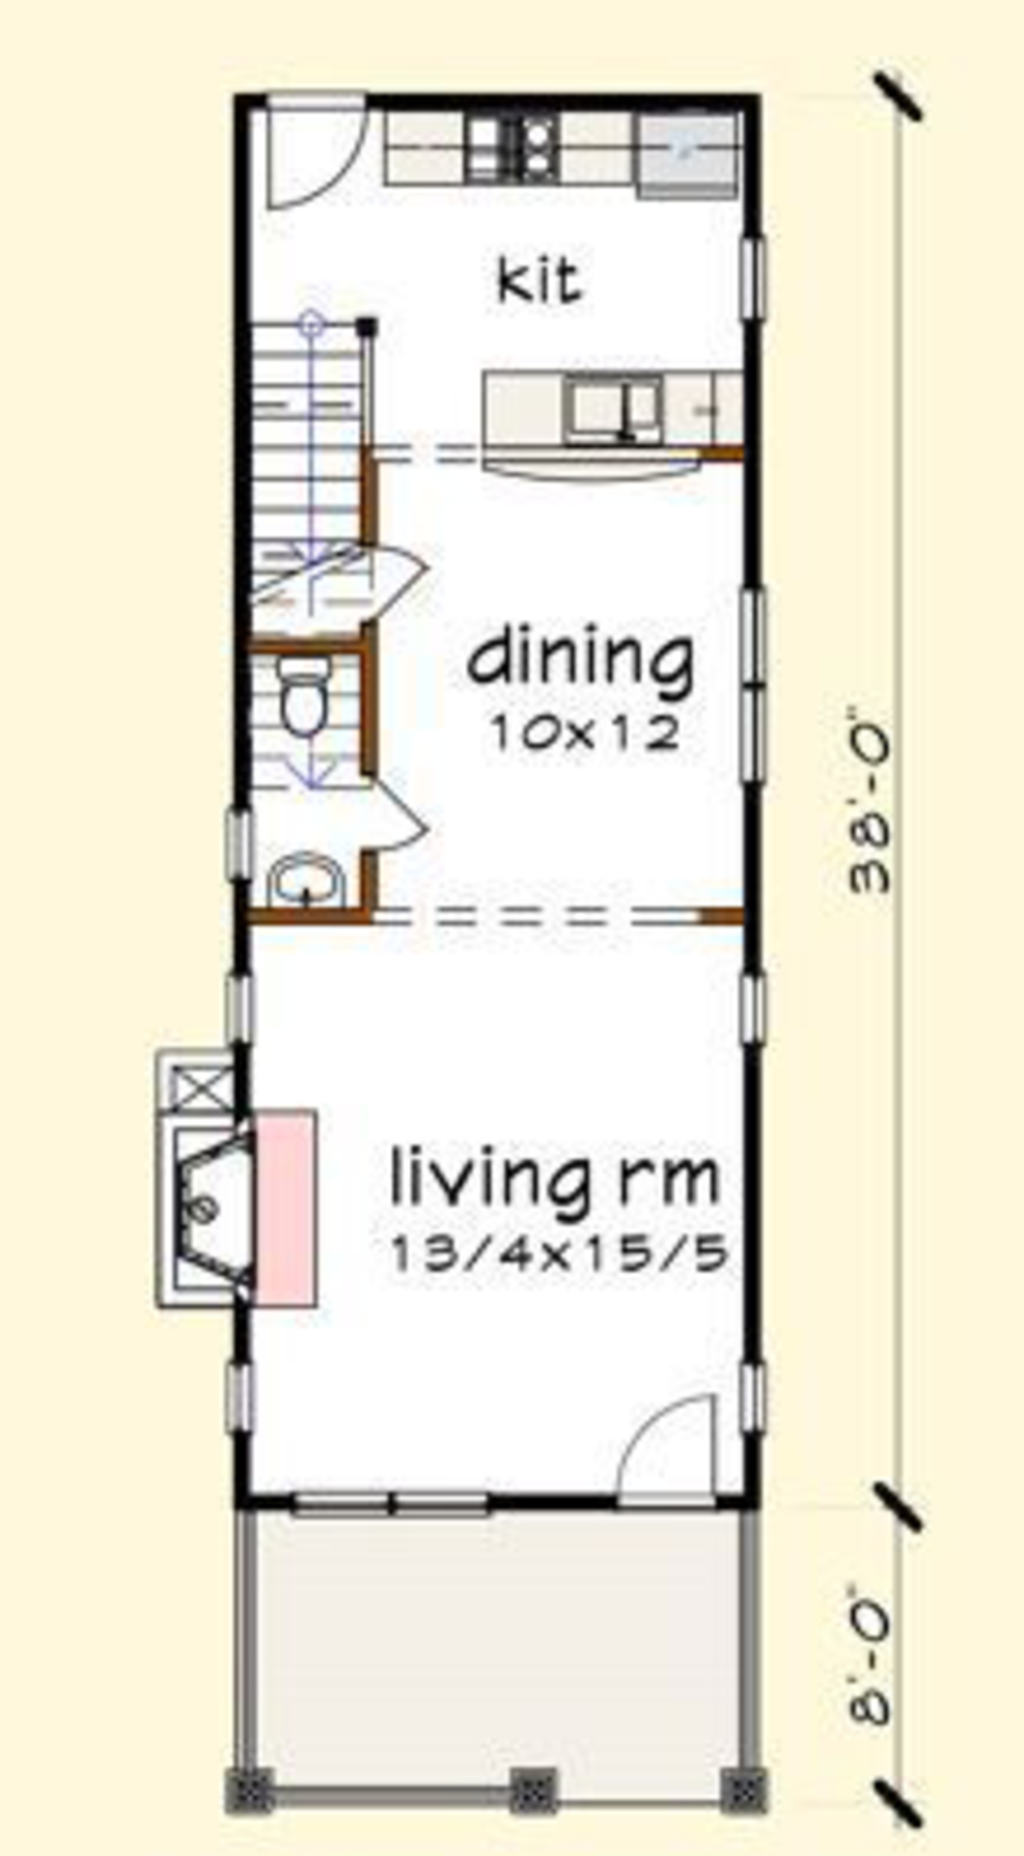door: (610, 1372, 733, 1521), (265, 90, 373, 221), (359, 775, 436, 867), (364, 538, 428, 612)
kitchen_bar: (465, 324, 755, 496)
large_sink: (265, 647, 356, 749)
small_sink: (250, 835, 346, 918)
stairs: (262, 298, 373, 638)
twin_sink: (530, 356, 716, 472)
window: (728, 589, 776, 796), (719, 212, 805, 324), (730, 952, 793, 1067), (293, 1484, 516, 1512), (213, 958, 265, 1052), (216, 804, 276, 884), (228, 1347, 259, 1435)
